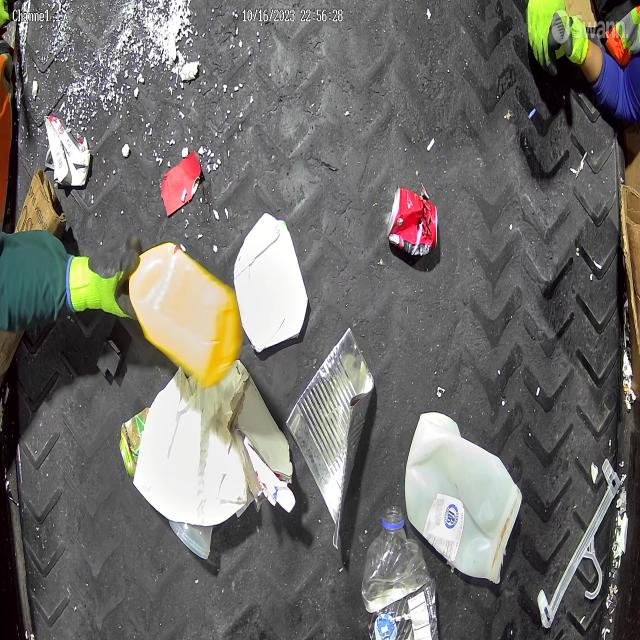can: (387, 185, 438, 256)
milk_jug: (404, 412, 522, 585)
non_white_jug: (129, 242, 240, 387)
plastic_bottle: (362, 506, 438, 640)
